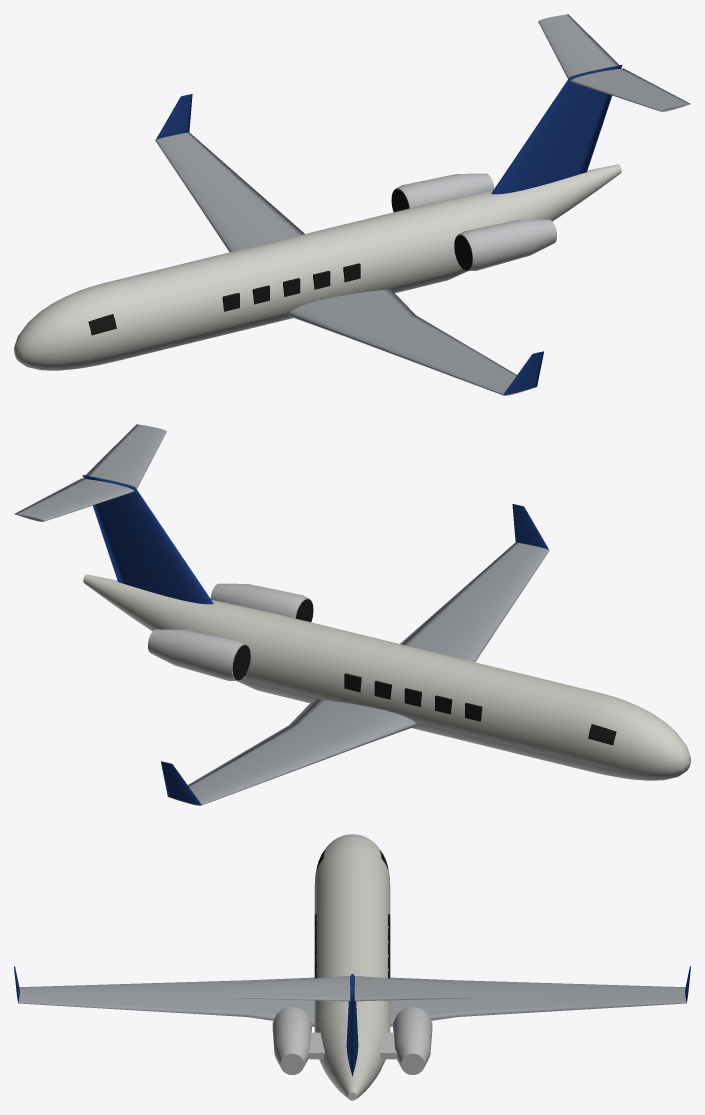
3 renders of one model, top to bottom at view 1: azimuth 30°, elevation 25°; view 2: azimuth 150°, elevation 25°; view 3: azimuth 270°, elevation 25°, orthographic. The views are drawn at different scales.
Visible parts, largest first — view 1: e55p; view 2: e55p; view 3: e55p.
Part boxes in pixels (x1=…): e55p: x1=14, y1=14, x2=690, y2=395; e55p: x1=14, y1=424, x2=690, y2=805; e55p: x1=14, y1=834, x2=690, y2=1100.
Size of the model in its own units: 16.17 by 4.37 by 16.09.
